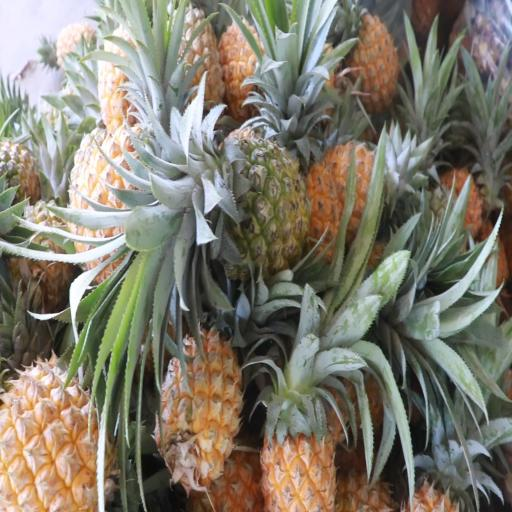Pineapple - v8 v1: (0, 355, 126, 512), (66, 127, 184, 284), (258, 328, 339, 512), (157, 326, 242, 500), (336, 15, 404, 118)
